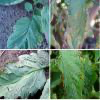Tomato leaf bacterial spot: (1, 51, 47, 98), (55, 50, 86, 98), (7, 7, 42, 48), (65, 2, 89, 49)
